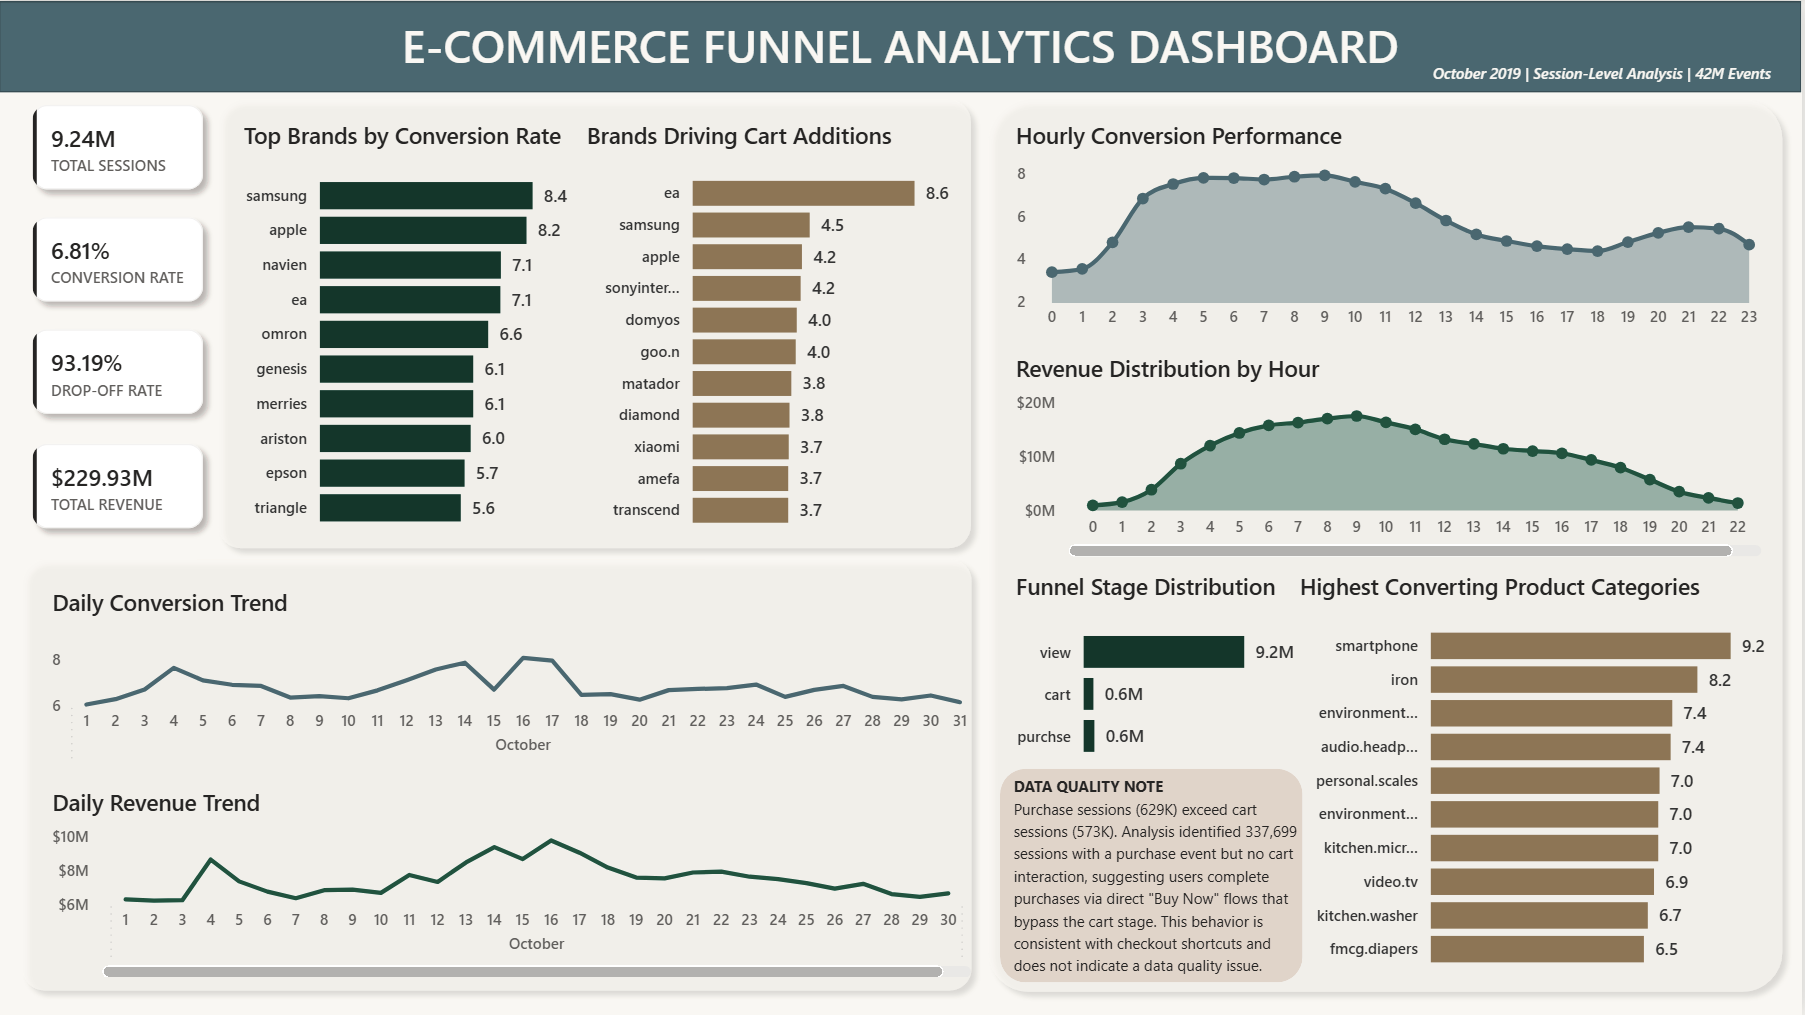

The dashboard page shown, as its layout file describes it:
{"tool":"powerbi","page":{"name":"Page 1","canvas":[1280,720],"ordinal":0},"visuals":[{"type":"shape","box":[8.1,387.1,691.9,324.2],"z":0},{"type":"shape","box":[147.4,60.5,552.4,336.7],"z":1000},{"type":"cardVisual","fields":{"Data":["Max(overall_funnel.sessions)"]},"box":[0,50,169.1,108.6],"z":2000},{"type":"shape","box":[693.6,60.5,581.9,651.7],"z":3000},{"type":"clusteredBarChart","title":"Funnel Stage Distribution","fields":{"Y":["Sum(overall_funnel.sessions)"],"Category":["overall_funnel.Stage"]},"box":[717.7,404.8,208.1,146.8],"z":4000},{"type":"lineChart","title":"Daily Conversion Trend","fields":{"Y":["Sum(daily_metrics.conversion_rate)"],"Category":["daily_metrics.date.Variation.Date Hierarchy.Month","daily_metrics.date.Variation.Date Hierarchy.Day"]},"box":[32.3,416.1,662.9,133.9],"z":5000},{"type":"lineChart","title":"Daily Revenue Trend","fields":{"Category":["daily_metrics.date.Variation.Date Hierarchy.Month","daily_metrics.date.Variation.Date Hierarchy.Day"],"Y":["Sum(daily_metrics.revenue)"]},"box":[32.8,557.8,662.5,140.6],"z":6000},{"type":"lineChart","title":"Revenue Distribution by Hour","fields":{"Category":["hourly_sessions.hour"],"Y":["Sum(hourly_sessions.revenue)"]},"box":[716.9,249.5,539.4,149.4],"z":7000},{"type":"lineChart","title":"Hourly Conversion Performance","fields":{"Y":["Sum(hourly_sessions.conversion_rate)"],"Category":["hourly_sessions.hour"]},"box":[716.9,84.3,539.4,158.1],"z":8000},{"type":"clusteredBarChart","title":"Top Brands by Conversion Rate","fields":{"Category":["brand_funnel.brand"],"Y":["Sum(brand_funnel.conversion_rate)"]},"box":[168.7,84.3,244.2,300.5],"z":9000},{"type":"clusteredBarChart","title":"Brands Driving Cart Additions","fields":{"Category":["brand_funnel.brand"],"Y":["Sum(brand_funnel.view_to_cart_rate)"]},"box":[412.9,84.3,268.8,300.5],"z":10000},{"type":"clusteredBarChart","title":"Highest Converting Product Categories","fields":{"Category":["category_funnel.category_code.2"],"Y":["Sum(category_funnel.conversion_rate)"]},"box":[918.6,404.7,341.1,293],"z":11000},{"type":"cardVisual","fields":{"Data":["overall_funnel.view to purch drop off"]},"box":[0,210,169.1,108.6],"z":12000},{"type":"cardVisual","fields":{"Data":["overall_funnel.view to purhcase conv"]},"box":[0,130,169.1,108.6],"z":13000},{"type":"cardVisual","fields":{"Data":["Sum(daily_metrics.revenue)"]},"box":[0,290,169.1,108.6],"z":14000},{"type":"shape","box":[0,0,1280.1,65],"z":15000},{"type":"textbox","box":[0,4.9,1280.3,60.7],"z":16000},{"type":"textbox","box":[996.9,36.9,283.1,27.7],"z":17000},{"type":"shape","box":[711.5,546,214.9,151.7],"z":18000},{"type":"textbox","box":[716,544,215.2,170.1],"z":19000}]}

Visuals, with their boxes in screenshot pixels (x1, y1, x2, y2), scaled from the page's 1280x720 canvas onto the 1805x1015 screenshot:
shape: <bbox>11, 546, 987, 1003</bbox>
shape: <bbox>208, 85, 987, 560</bbox>
cardVisual - Max(overall_funnel.sessions): <bbox>0, 70, 238, 224</bbox>
shape: <bbox>978, 85, 1799, 1004</bbox>
"Funnel Stage Distribution" clusteredBarChart: <bbox>1012, 571, 1306, 778</bbox>
"Daily Conversion Trend" lineChart: <bbox>46, 587, 980, 775</bbox>
"Daily Revenue Trend" lineChart: <bbox>46, 786, 980, 985</bbox>
"Revenue Distribution by Hour" lineChart: <bbox>1011, 352, 1772, 562</bbox>
"Hourly Conversion Performance" lineChart: <bbox>1011, 119, 1772, 342</bbox>
"Top Brands by Conversion Rate" clusteredBarChart: <bbox>238, 119, 582, 542</bbox>
"Brands Driving Cart Additions" clusteredBarChart: <bbox>582, 119, 961, 542</bbox>
"Highest Converting Product Categories" clusteredBarChart: <bbox>1295, 571, 1776, 984</bbox>
cardVisual - overall_funnel.view to purch drop off: <bbox>0, 296, 238, 449</bbox>
cardVisual - overall_funnel.view to purhcase conv: <bbox>0, 183, 238, 336</bbox>
cardVisual - Sum(daily_metrics.revenue): <bbox>0, 409, 238, 562</bbox>
shape: <bbox>0, 0, 1804, 92</bbox>
textbox: <bbox>0, 7, 1804, 92</bbox>
textbox: <bbox>1406, 52, 1804, 91</bbox>
shape: <bbox>1003, 770, 1306, 984</bbox>
textbox: <bbox>1010, 767, 1313, 1007</bbox>
